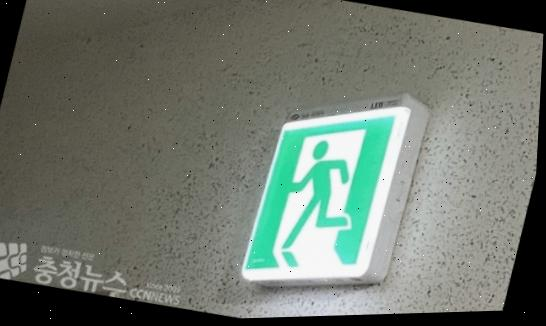emergency_exit: (240, 93, 431, 287)
